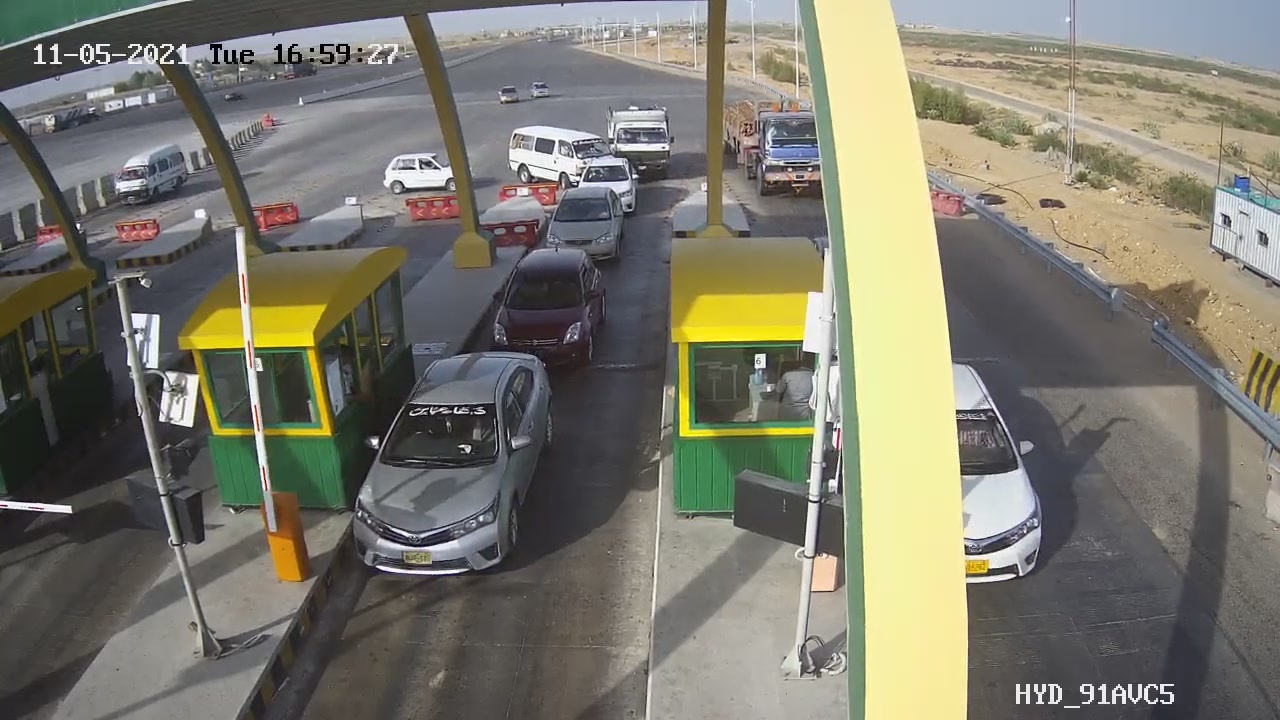F1: (340, 334, 571, 589), (475, 233, 623, 380), (529, 180, 640, 281)
